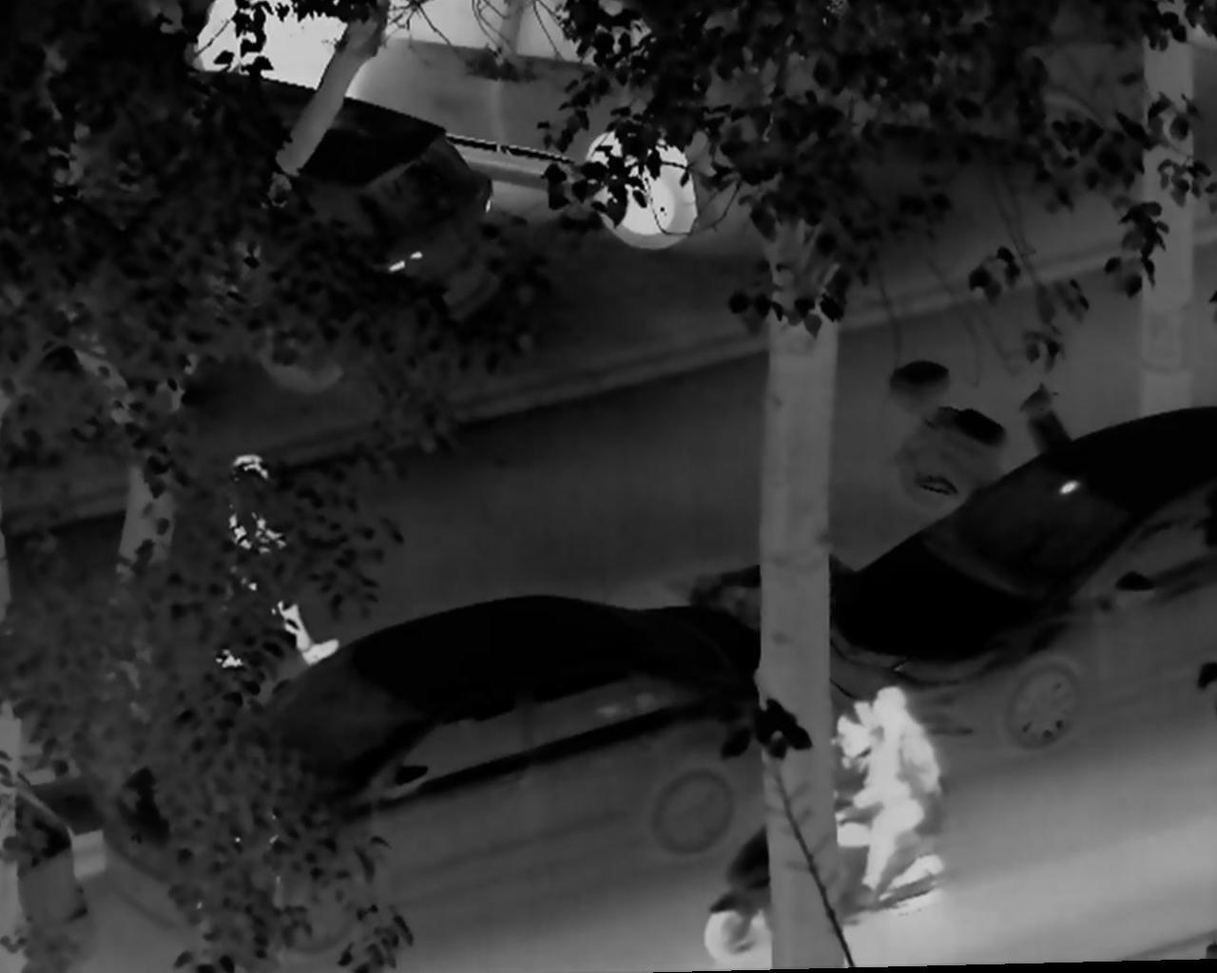person: (216, 456, 341, 669), (852, 682, 938, 918), (826, 700, 896, 852)
